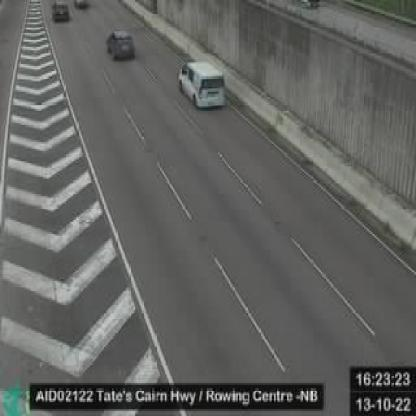Car: (178, 59, 226, 109), (107, 27, 135, 61), (51, 1, 70, 21), (74, 1, 90, 10)
